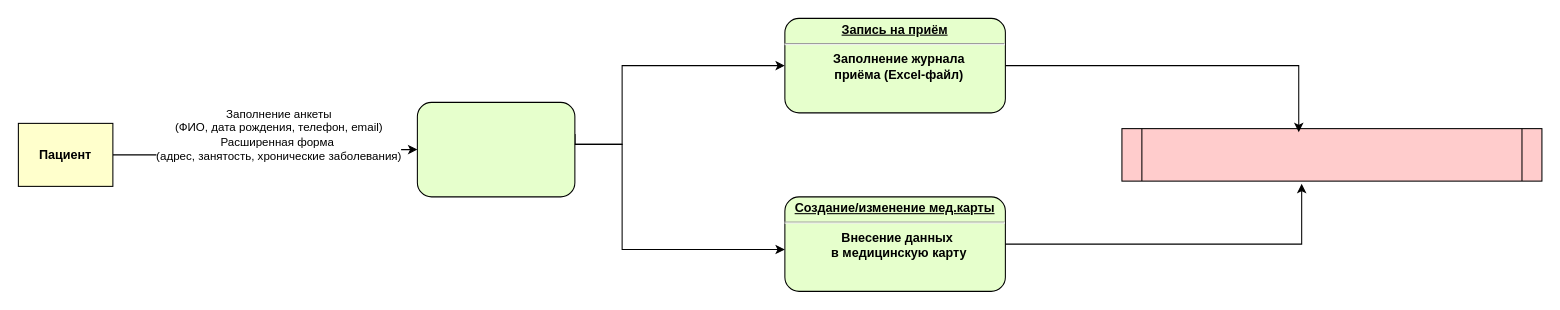
Image size: 1560x310. Some labels were removed from this diagram. The box of each missing label's shape, as (x1, y1, x2, y2) in pixels:
Общая папка: (1121, 128, 1542, 181)
Ресепшен Получение данных для регистрации пациента: (416, 101, 575, 197)
